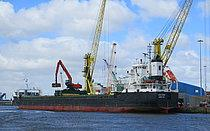Ship: (11, 39, 184, 115)
